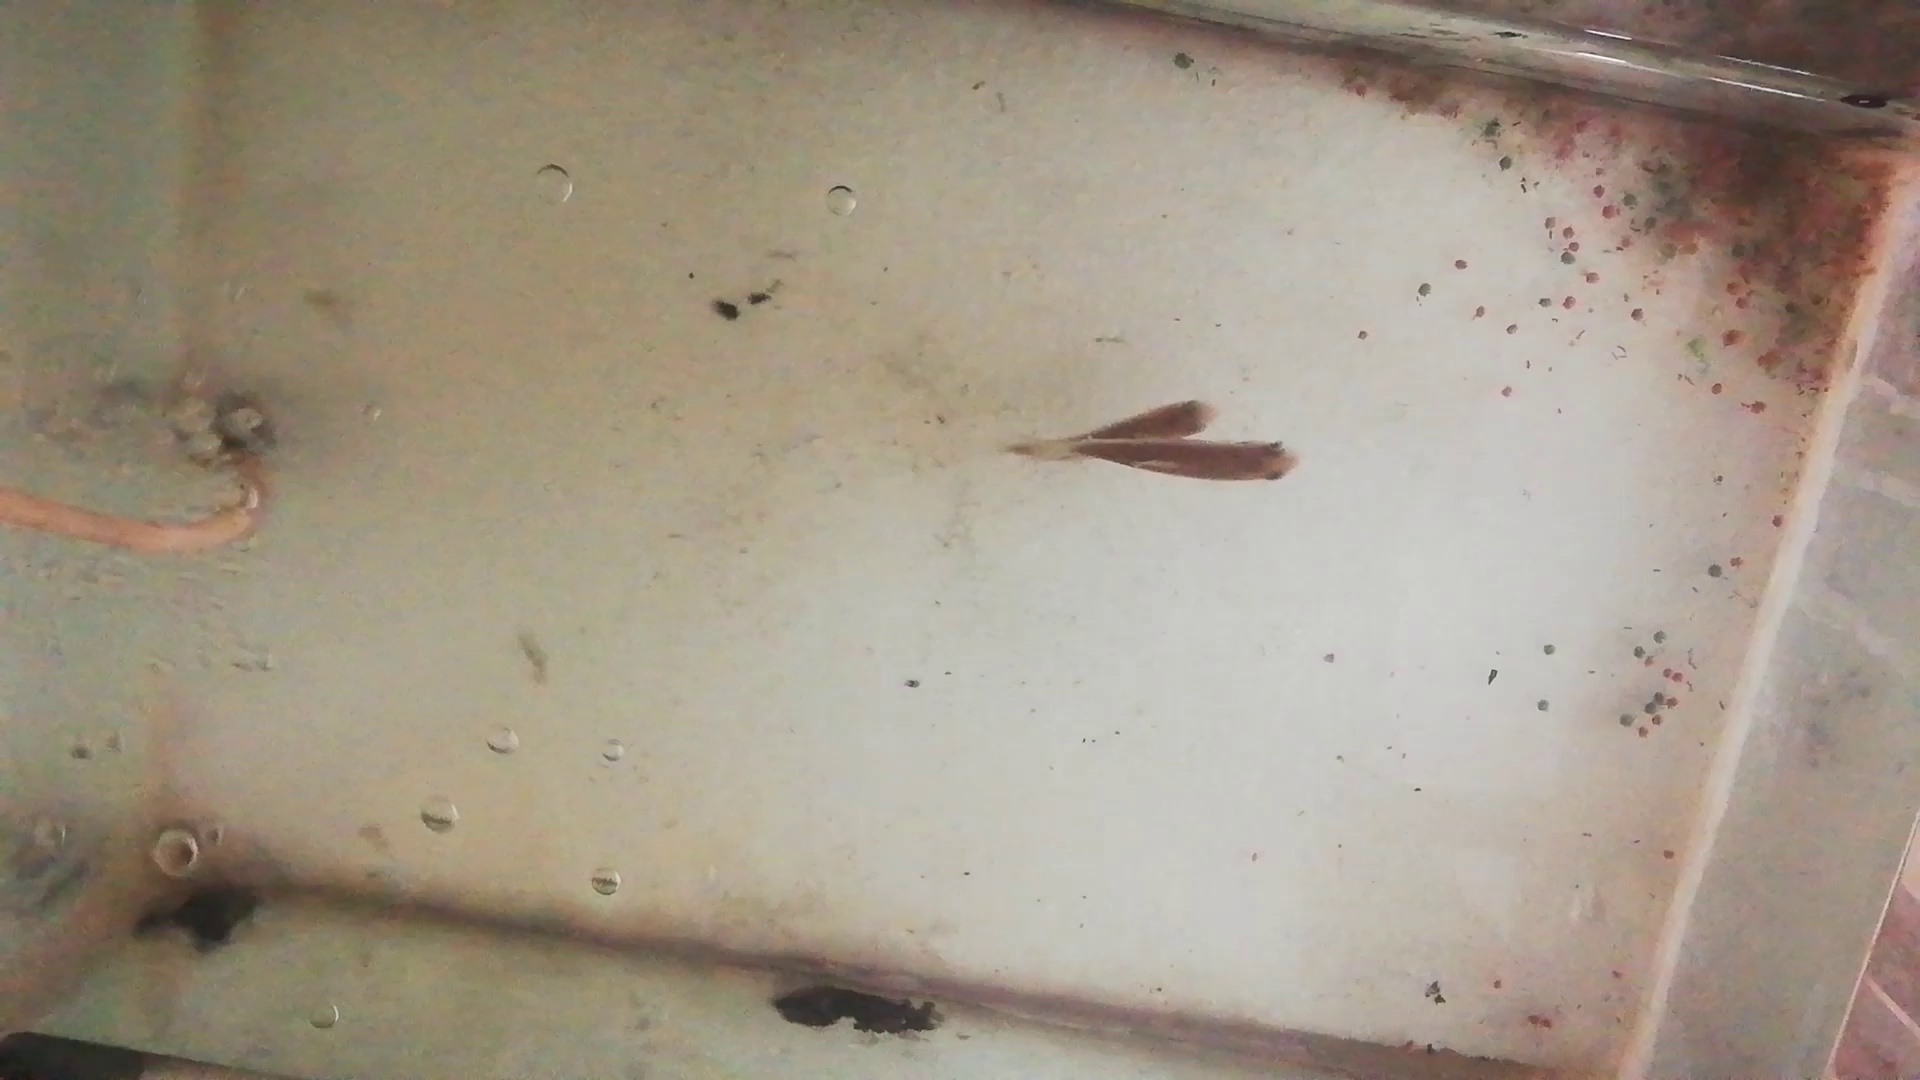fish: (1014, 400, 1221, 462), (1062, 436, 1302, 488)
